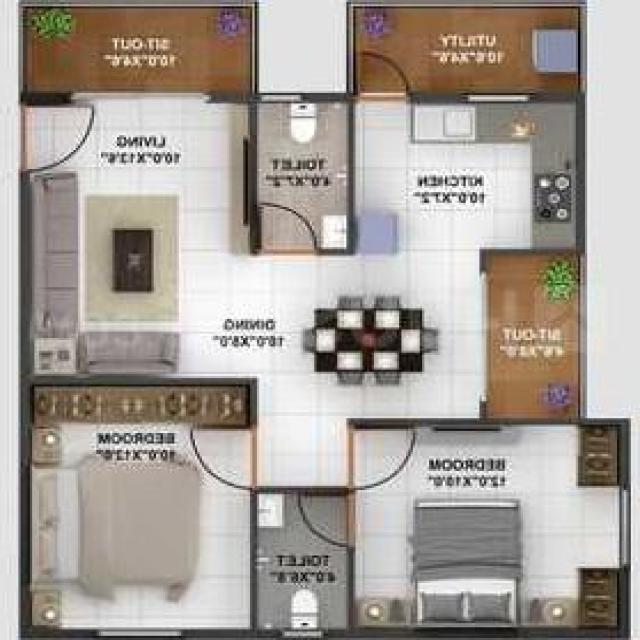Balcony-Sitout: (16, 0, 256, 93), (479, 251, 583, 424)
Bedroom: (18, 376, 254, 640)
Bedroom with Toilet: (252, 421, 630, 640)
Dining: (298, 293, 443, 389)
Kitchen: (350, 98, 587, 252)
Living: (16, 93, 257, 388)
Toilet: (254, 94, 356, 254), (250, 490, 351, 639)
Utility: (349, 1, 586, 97)
